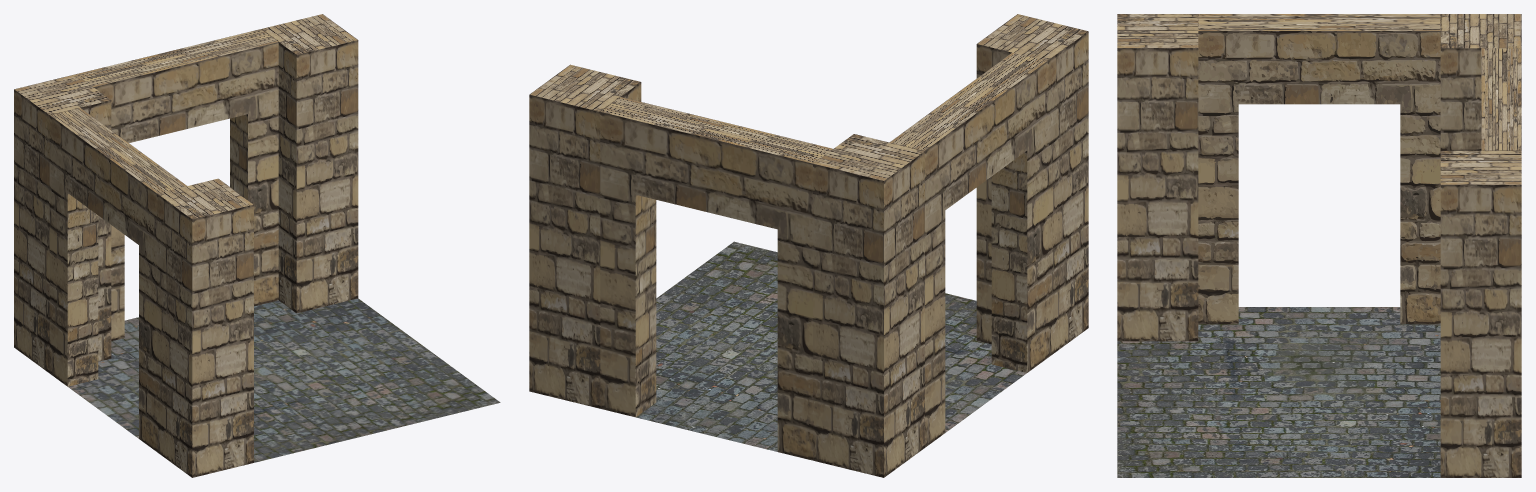
The model's file is 1-NESW-westNorthDoors.fbx.
The picture shows the model from 3 angles, left to right: view 1: azimuth 30°, elevation 25°; view 2: azimuth 150°, elevation 25°; view 3: azimuth 270°, elevation 25°; orthographic projection. The views are drawn at different scales.
Parts seen in each view (by area): view 1: Cube_1, Plane; view 2: Cube_1, Plane; view 3: Cube_1, Plane.
Part boxes in pixels (x1,y1,x2,y2): Cube_1: (14, 14, 358, 477); Plane: (68, 298, 500, 462); Cube_1: (529, 14, 1088, 477); Plane: (636, 241, 1026, 451); Cube_1: (1117, 14, 1521, 477); Plane: (1117, 307, 1440, 477).
Size of the model in its own units: 10 by 8 by 10.
Materials: 3 (3 with a texture image).
